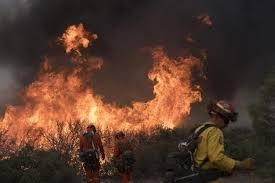fire: (0, 19, 209, 172)
